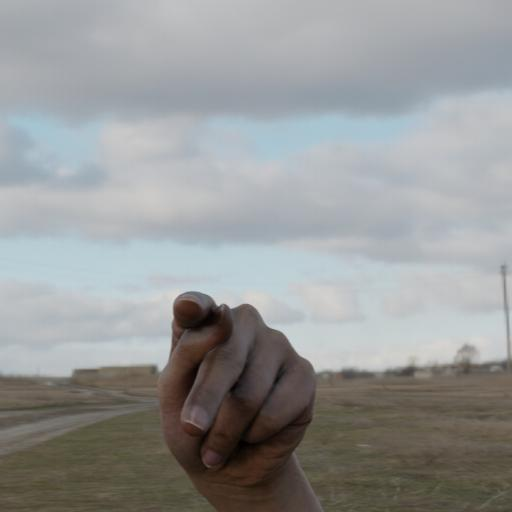P: (148, 281, 352, 512)
